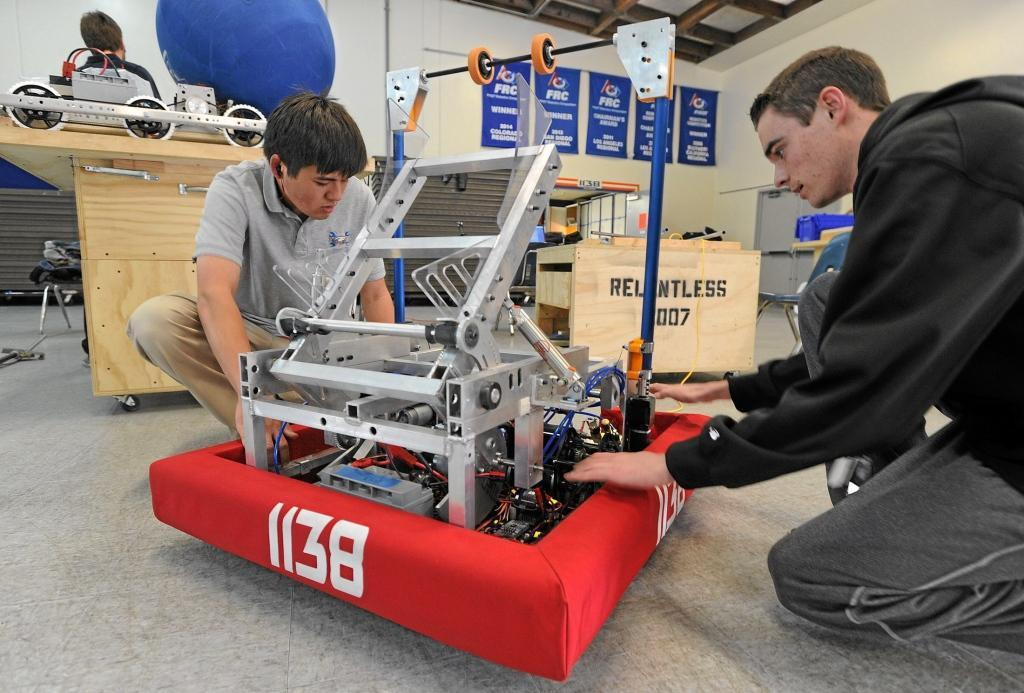robot: (146, 14, 727, 688)
